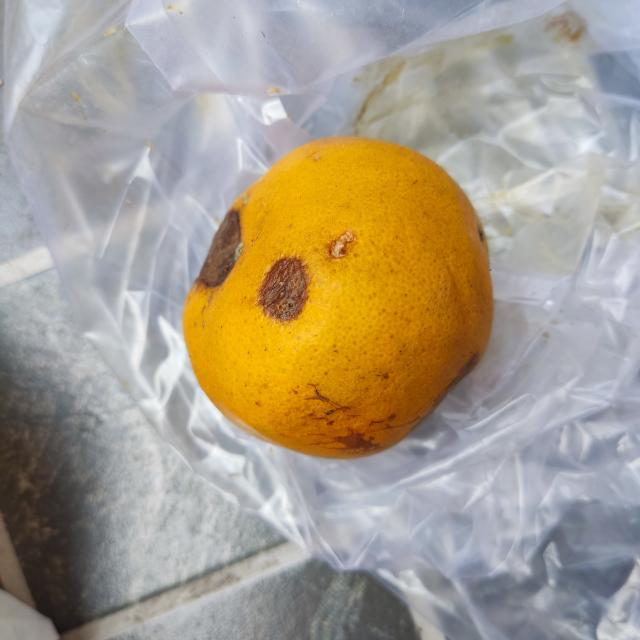orange: (176, 135, 497, 461)
